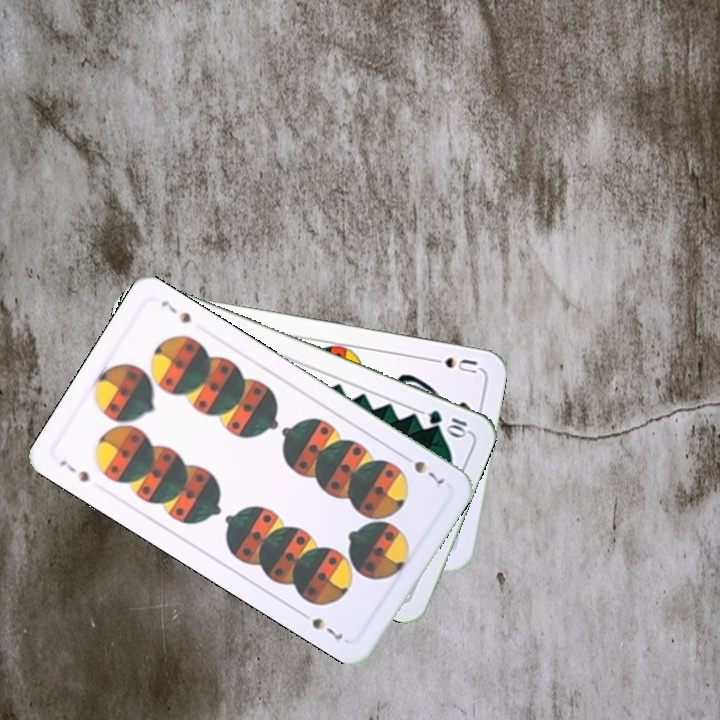G10: (423, 406, 471, 439)
S7: (397, 450, 448, 487), (55, 456, 92, 485)
SU: (423, 353, 482, 376)
